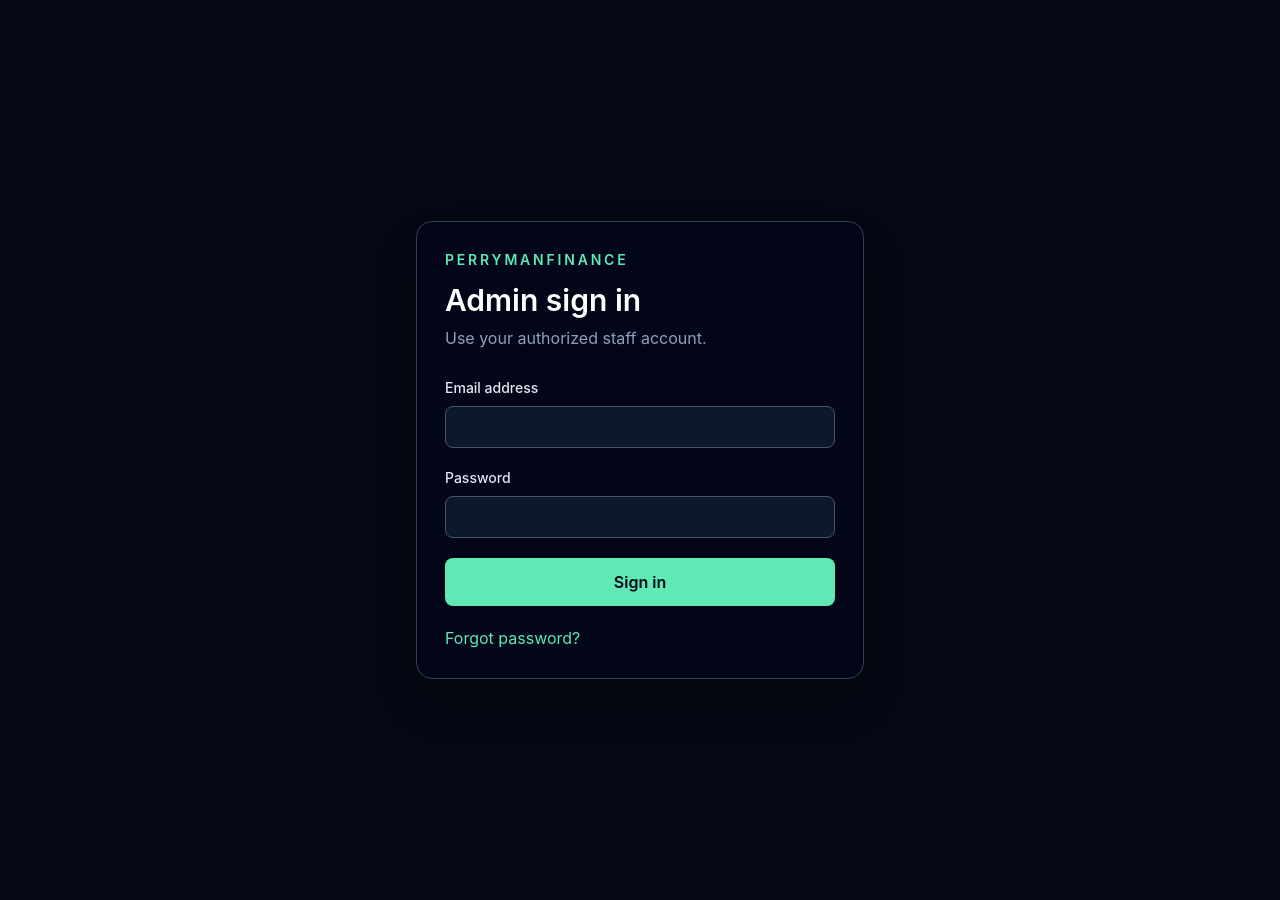
Test: admin authentication › renders login after session restoration fails and signs in
In the field labelled "Email address": (640, 427) [445, 406, 835, 448], type "admin@example.test"
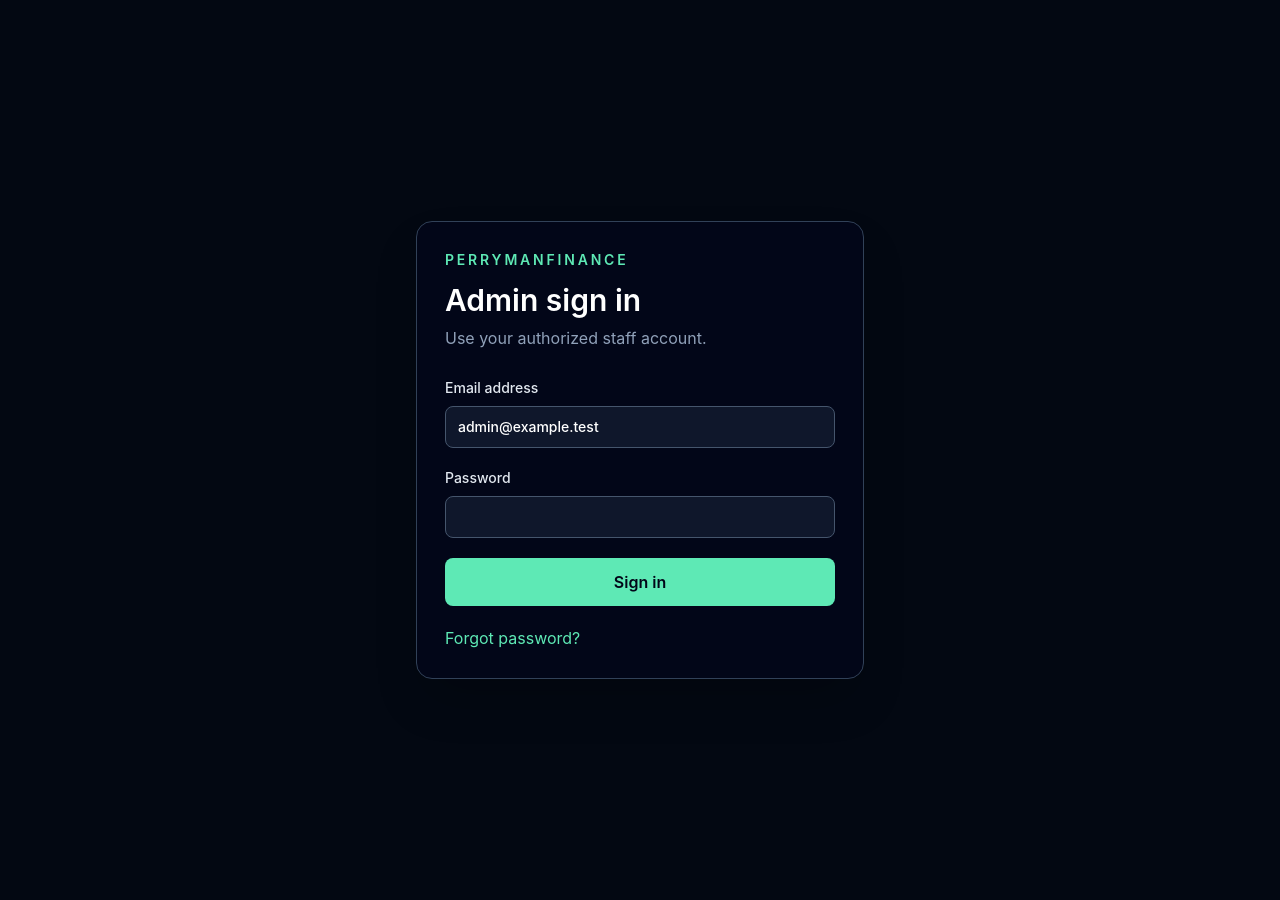
In the password field labelled "Password": (640, 517) [445, 496, 835, 538], type "Correct-password-123"
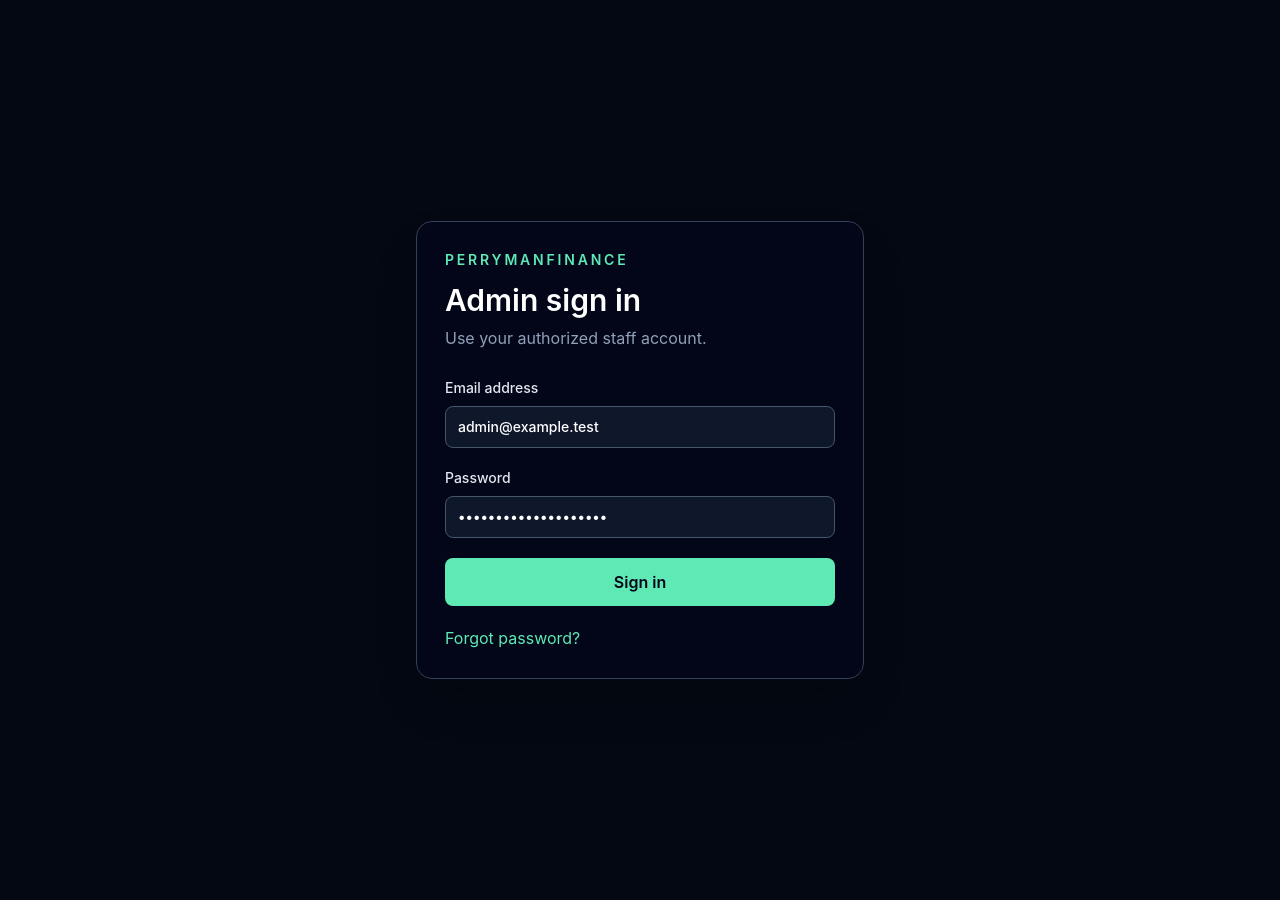
Click the button "Sign in": (640, 582) [445, 558, 835, 606]
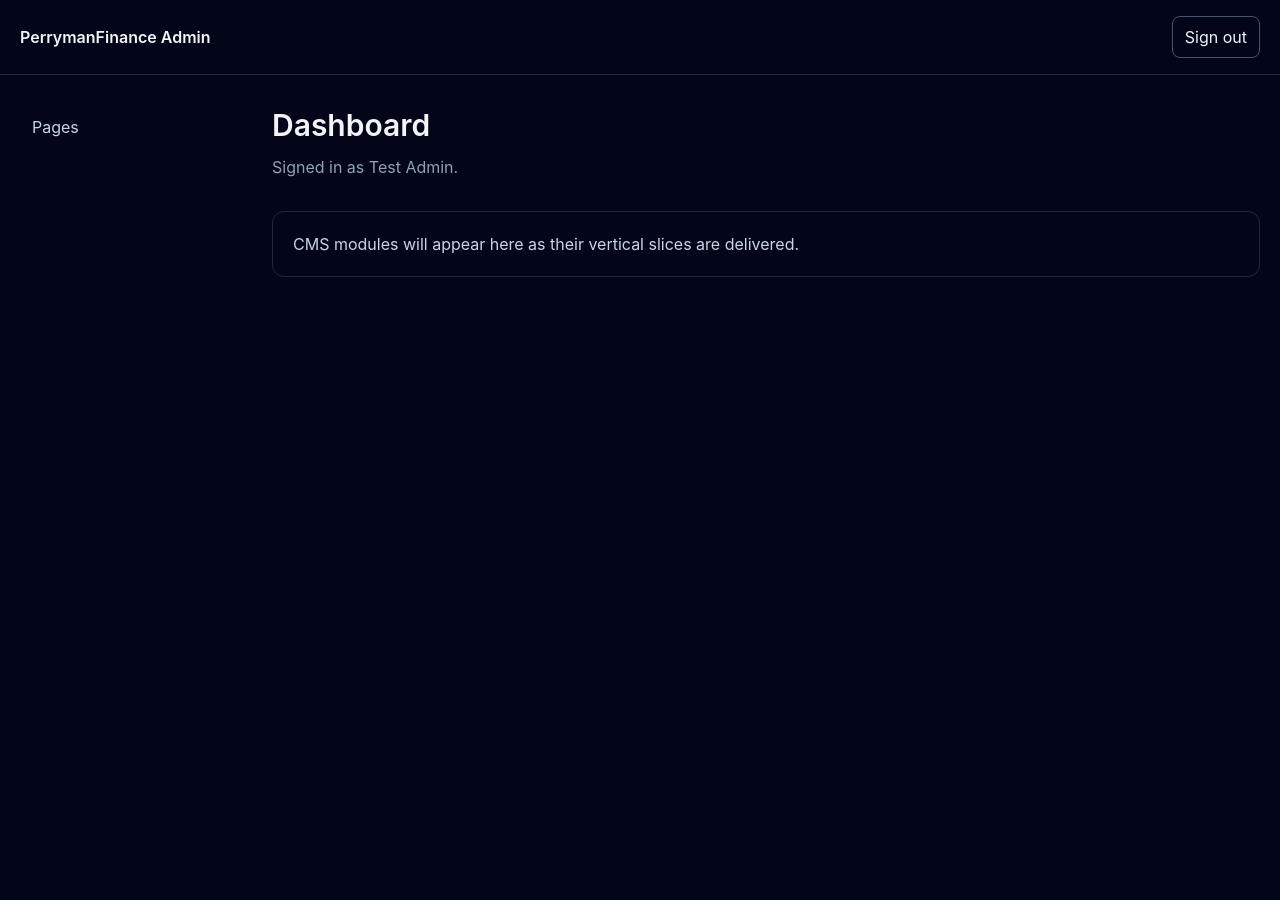
expect the heading "Dashboard" is shown: met, box [272, 107, 430, 143]
expect the text "Signed in as Test Admin." is shown: met, box [272, 157, 458, 177]
expect the link "Pages" is shown: met, box [32, 117, 79, 137]
